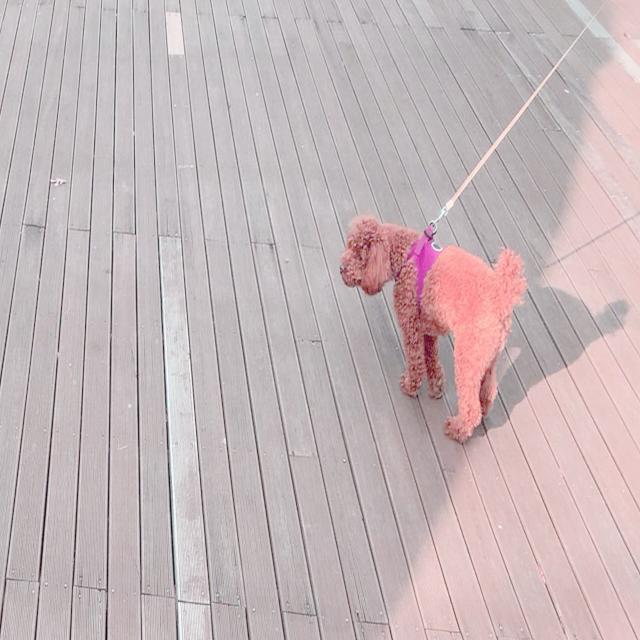Dog: (338, 210, 528, 444)
